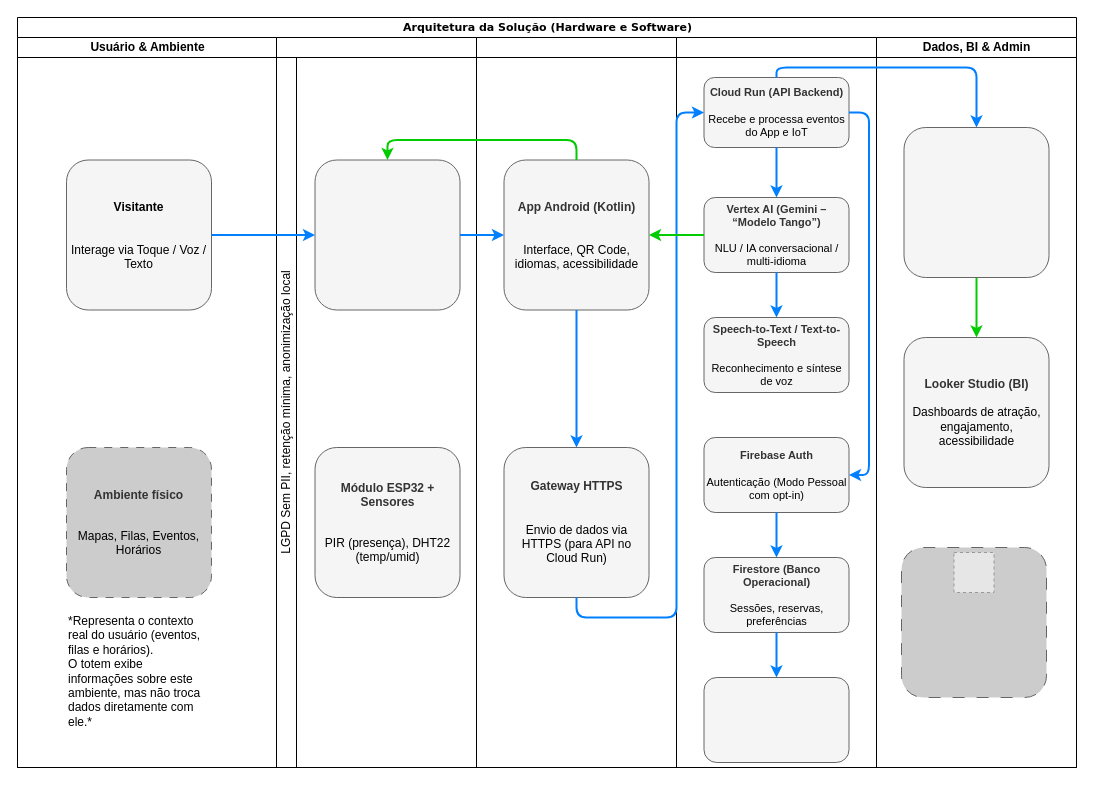
This 1094x785 diagram has some shape labels left out. Grey dashed boxes stand in for pictures. Each missing label, with the box of its shape:
BigQuery (Data Warehouse) Telemetria anônima de uso e sensores: (903, 126, 1049, 278)
Cloud Storage (Estático) Imagens, ícones e vídeos da UI: (703, 676, 849, 762)
Gateway & App Android: (476, 36, 676, 768)
Gestão e Segurança Criptografia, LGPD, controle de acesso: (900, 546, 1046, 698)
Nuvem (GCP & IA): (676, 36, 876, 768)
Totem (Edge/IoT): (276, 36, 476, 768)
Totem MTM-3201 Tela touch, microfone, alto-falantes, câmera com blur: (314, 159, 460, 310)
